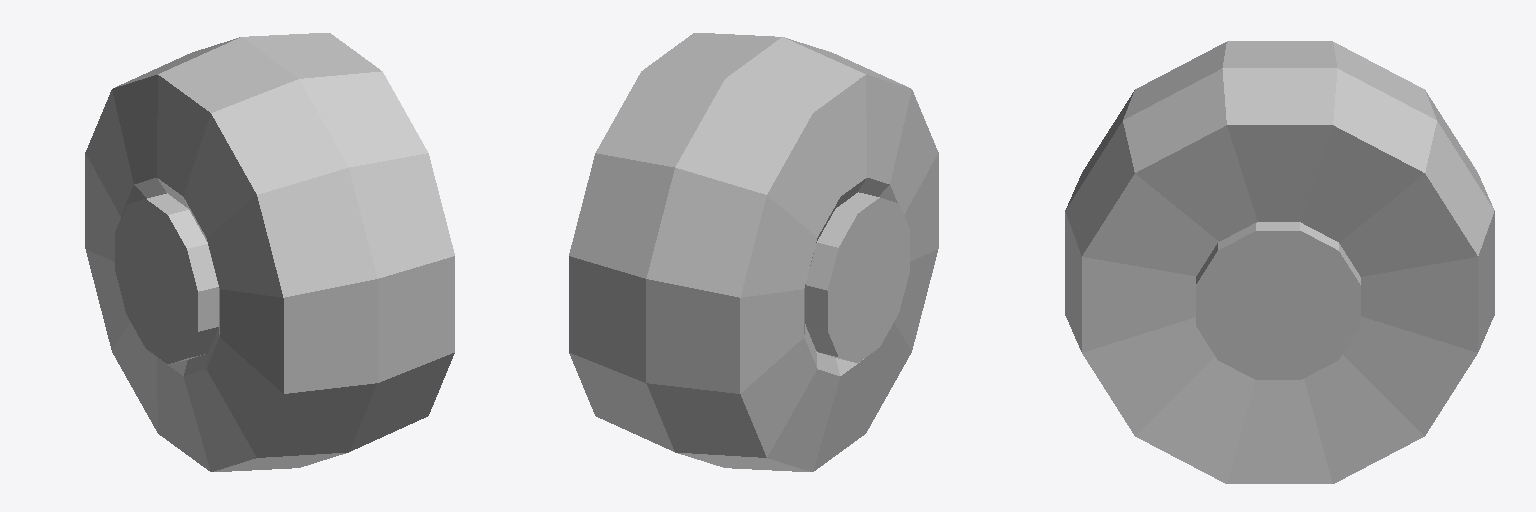
Rendered from truck_Tire.obj.
The picture shows the model from 3 angles: view 1: azimuth 30°, elevation 25°; view 2: azimuth 150°, elevation 25°; view 3: azimuth 270°, elevation 25°; orthographic projection.
Parts seen in each view (by area): view 1: cylinder, cylinder.001; view 2: cylinder, cylinder.001; view 3: cylinder, cylinder.001.
Boxes of the visible parts, x1=… form: cylinder: x1=85, y1=33, x2=454, y2=471; cylinder.001: x1=115, y1=193, x2=218, y2=363; cylinder: x1=569, y1=33, x2=938, y2=471; cylinder.001: x1=805, y1=192, x2=909, y2=362; cylinder: x1=1065, y1=41, x2=1494, y2=483; cylinder.001: x1=1196, y1=222, x2=1360, y2=379.
Size of the model in its own units: 0.4375 by 0.8125 by 0.8125.